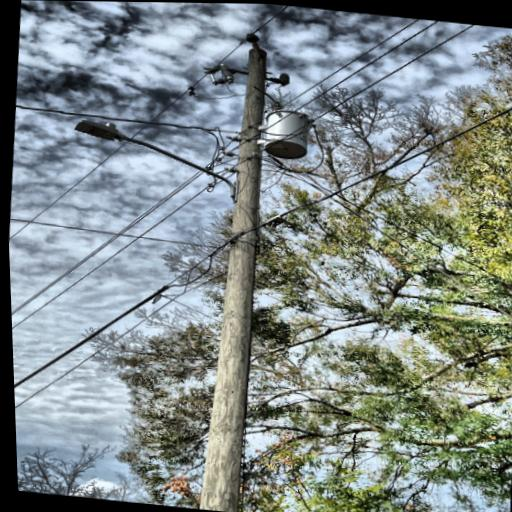insulator: (244, 32, 263, 45)
pole: (156, 29, 295, 512)
street light: (68, 118, 247, 204)
transformer: (261, 107, 315, 163)
